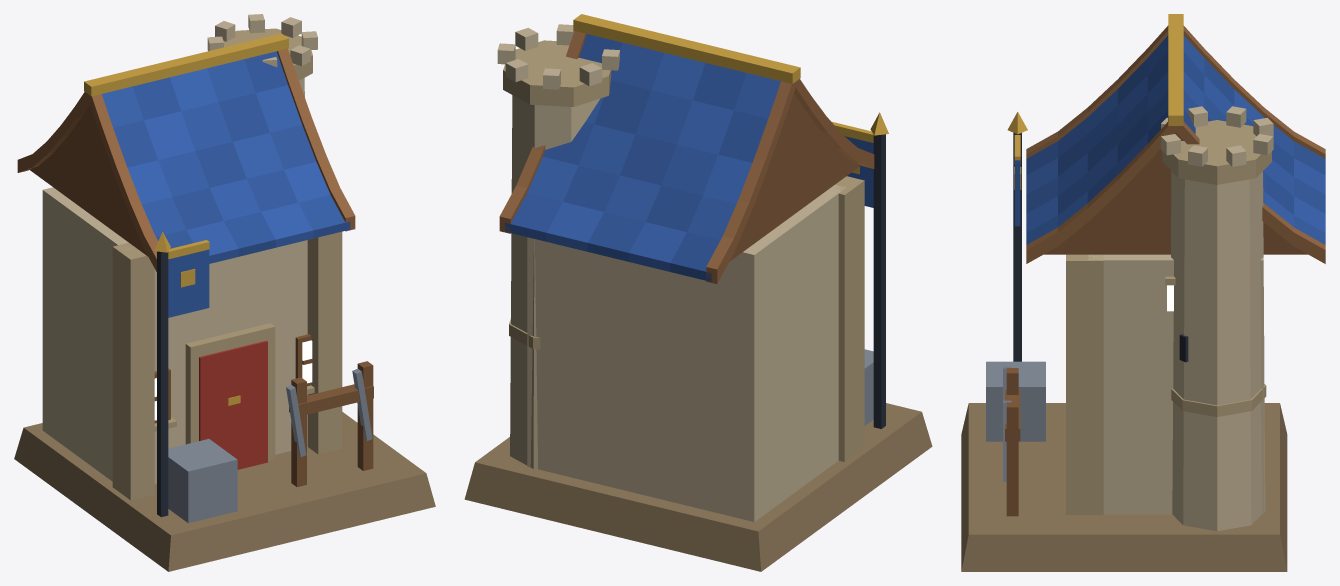
Rendered from camp_militia_t2.glb.
3 views of the same model, side by side, from view 1: azimuth 30°, elevation 25°; view 2: azimuth 150°, elevation 25°; view 3: azimuth 270°, elevation 25° (orthographic). The views are drawn at different scales.
Parts seen in each view (by area): view 1: body; view 2: body; view 3: body.
Part boxes in pixels (x1,y1,x2,y2): body: [14, 14, 435, 571]; body: [464, 14, 932, 571]; body: [961, 14, 1325, 571].
Size of the model in its own units: 1.9 by 2.77 by 2.12.
